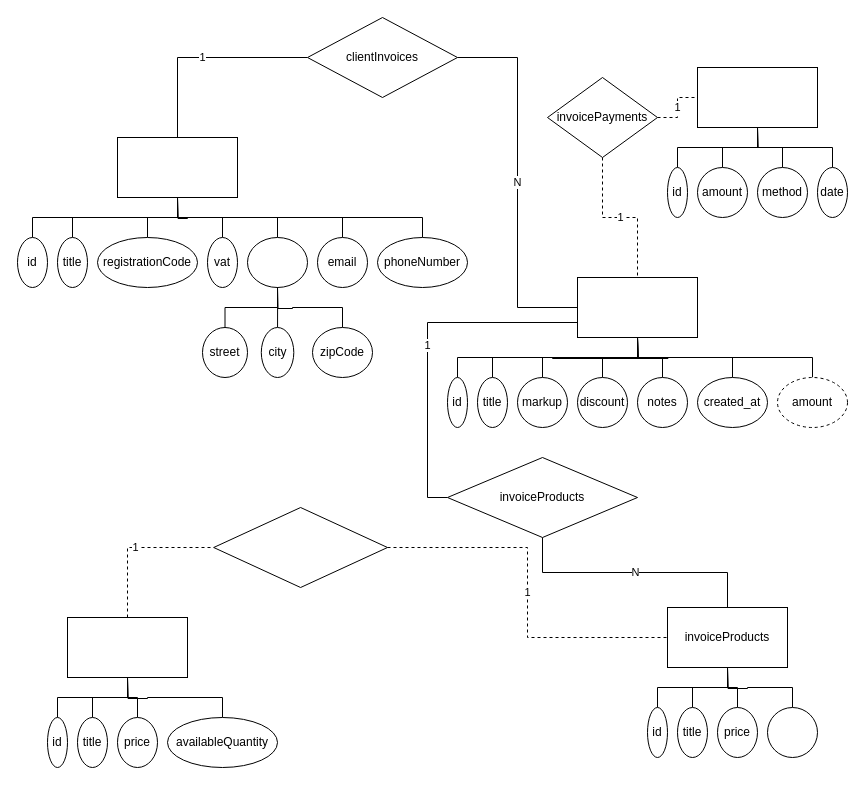
Some shapes in this 865 by 785 pixel diagram are drawn without their labels. Each missing label, with the centre of its shape:
address: (277,262)
clients: (177,167)
invoices: (637,307)
payments: (757,97)
productOrigin: (300,547)
products: (127,647)
quantity: (792,732)
